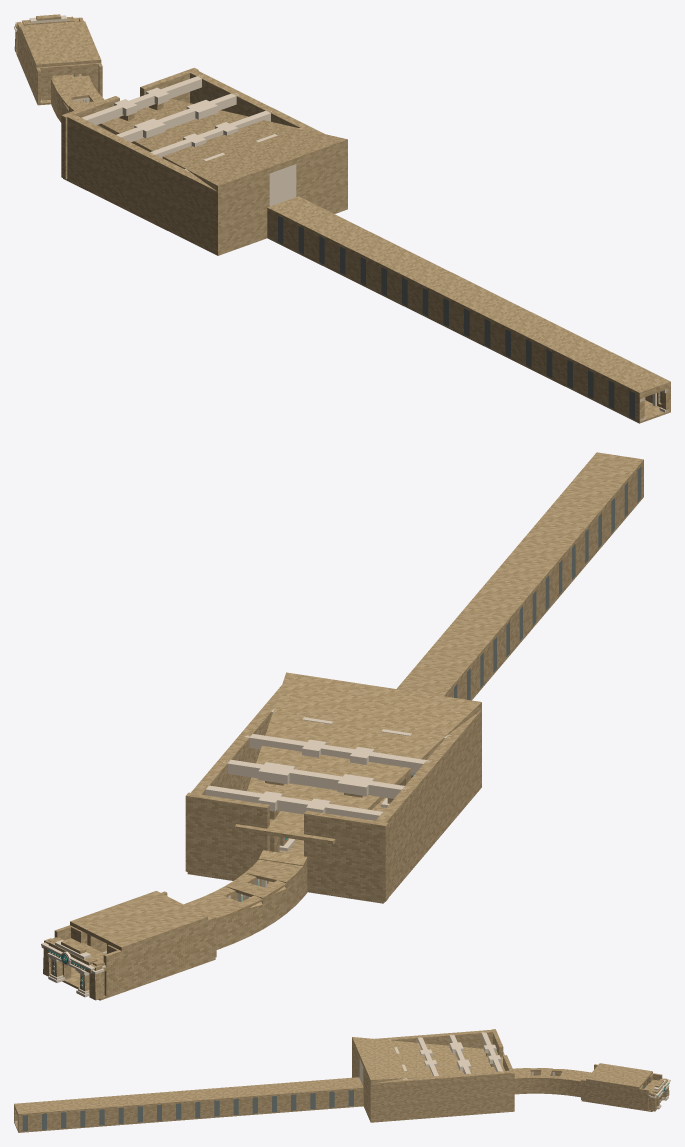
Rendered from RuinsFieldGrandTemple.obj.
3 views of the same model, one above another, from view 1: azimuth 30°, elevation 25°; view 2: azimuth 150°, elevation 25°; view 3: azimuth 270°, elevation 25° (orthographic). The views are drawn at different scales.
Visible parts, largest first — view 1: InnerSanctuaryHall, GrandProcessionalCorridor, GrandTemple_EntranceAndHall, Temple_CollapsedGallery; view 2: InnerSanctuaryHall, GrandProcessionalCorridor, GrandTemple_EntranceAndHall, Temple_CollapsedGallery, GrandTemple_EntranceRelief; view 3: InnerSanctuaryHall, GrandProcessionalCorridor, GrandTemple_EntranceAndHall, Temple_CollapsedGallery, GrandTemple_EntranceRelief.
Part boxes in pixels (x1,y1,x2,y2): InnerSanctuaryHall: (61,67,347,255); GrandProcessionalCorridor: (267,196,670,423); GrandTemple_EntranceAndHall: (16,17,102,105); Temple_CollapsedGallery: (51,75,104,122); InnerSanctuaryHall: (185,672,481,903); GrandProcessionalCorridor: (397,452,643,700); GrandTemple_EntranceAndHall: (48,891,216,1000); Temple_CollapsedGallery: (184,859,303,949); GrandTemple_EntranceRelief: (41,938,104,1000); InnerSanctuaryHall: (352,1029,514,1122); GrandProcessionalCorridor: (14,1077,363,1132); GrandTemple_EntranceAndHall: (581,1063,666,1111); Temple_CollapsedGallery: (513,1068,591,1097); GrandTemple_EntranceRelief: (650,1079,670,1111).
Size of the model in its own units: 757 by 232 by 3236.
4 materials, 4 textured.
